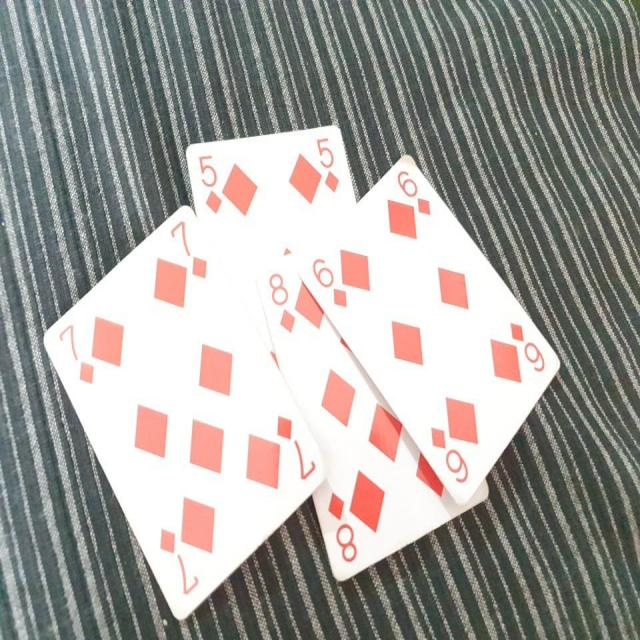5 Diamonds: (187, 118, 359, 361)
6 Diamonds: (299, 154, 558, 501)
7 Diamonds: (38, 201, 331, 620)
8 Diamonds: (259, 249, 489, 583)
